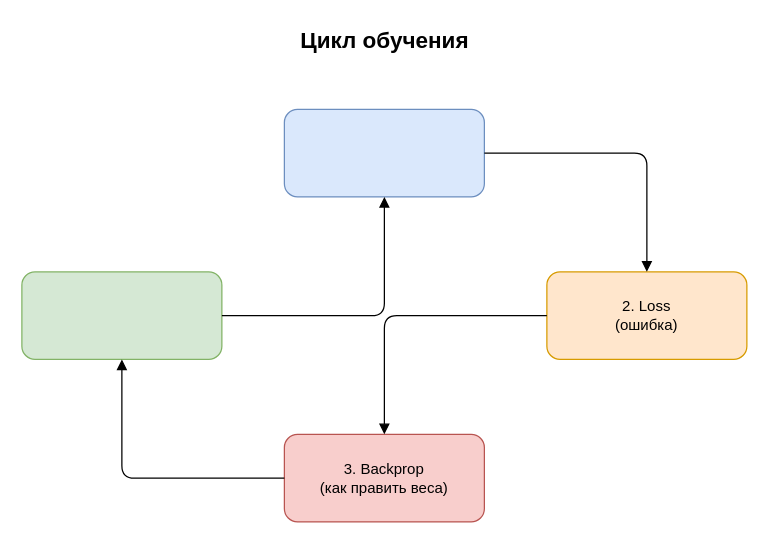
The diagram is 769 pixels wide and 544 high, and some of its shapes have lost their labels. The shapes that lost their labels are listed below. From the top down, each one's centre as x and y in pixels, then its label:
At (383,152): "1. Forward pass (предсказание)".
At (121,315): "4. Шаг оптимизатора (правим веса)".
